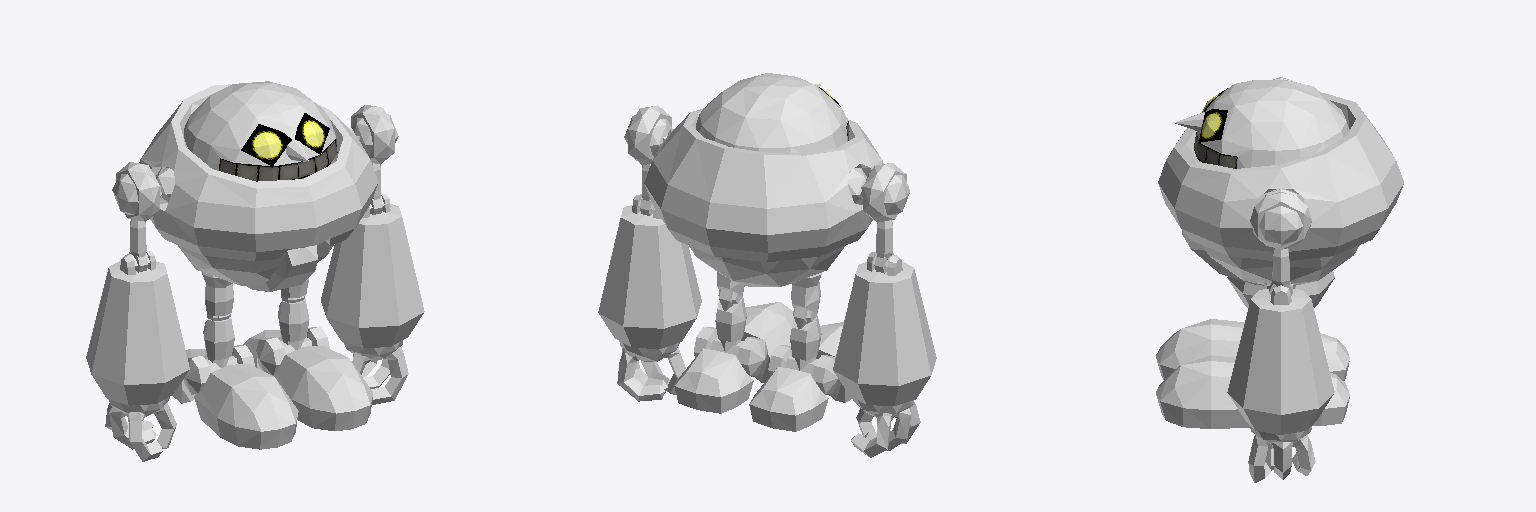
3 views of the same model, side by side, from view 1: azimuth 30°, elevation 25°; view 2: azimuth 150°, elevation 25°; view 3: azimuth 270°, elevation 25° (orthographic).
Visible parts, largest first — view 1: polygon0, polygon1, polygon3, polygon2; view 2: polygon0, polygon1; view 3: polygon0, polygon1, polygon3, polygon2.
Part boxes in pixels (x1,y1,x2,y2): polygon0: (120, 84, 390, 449); polygon1: (86, 81, 424, 461); polygon3: (241, 113, 329, 166); polygon2: (219, 139, 337, 181); polygon0: (632, 108, 902, 431); polygon1: (598, 73, 936, 457); polygon0: (1156, 93, 1403, 428); polygon1: (1174, 77, 1349, 482); polygon3: (1199, 88, 1227, 142); polygon2: (1194, 132, 1237, 168).
Bounding box in the file's own units: 20.13 × 19.84 × 13.22.
4 materials, 2 textured.